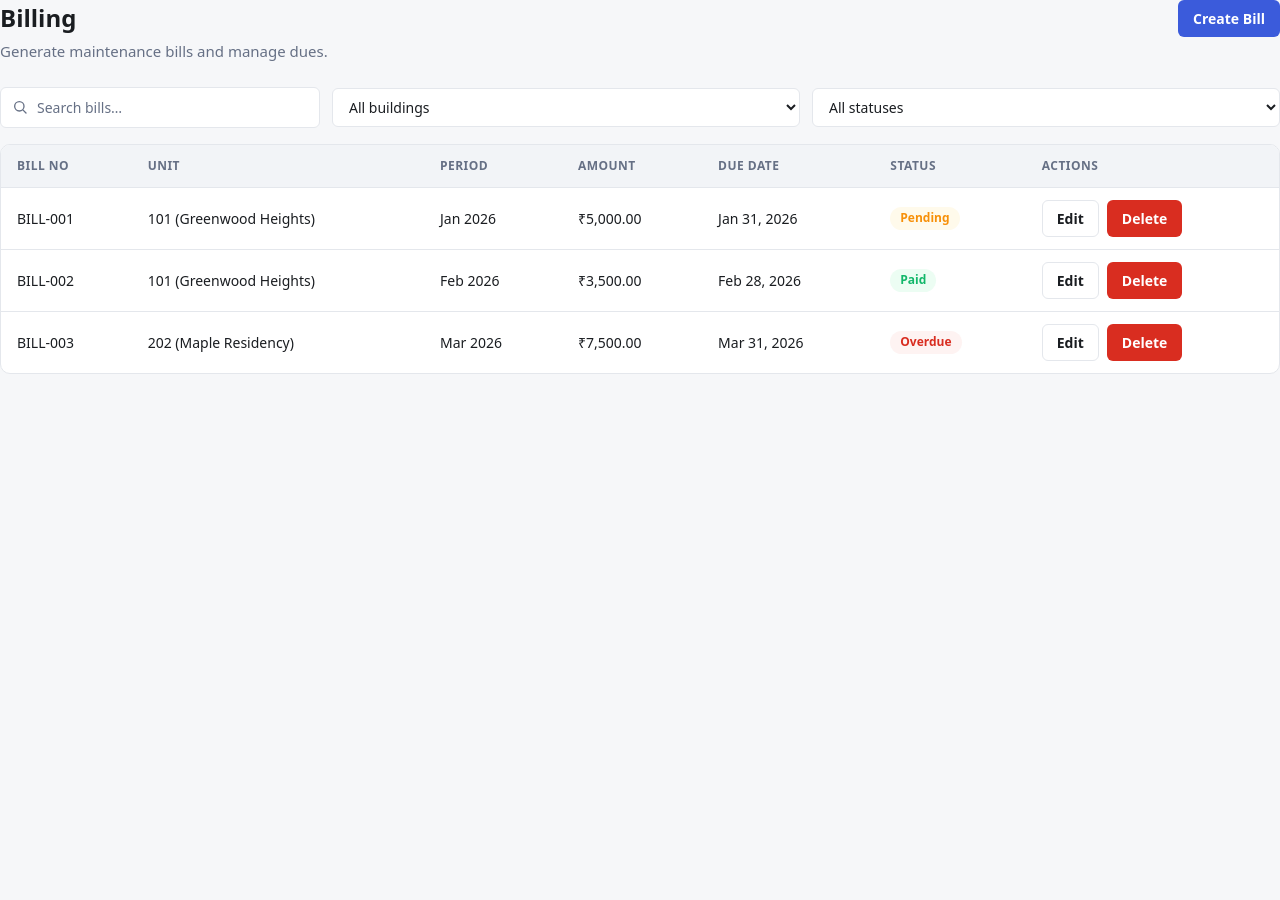
Test case: BillingPage CRUD functionality › validates amount must be greater than 0
Expected: the text "BILL-001" is shown, left=1, top=187, right=132, bottom=249
Click the button "Create Bill" at (1229, 18), box left=1178, top=0, right=1279, bottom=37
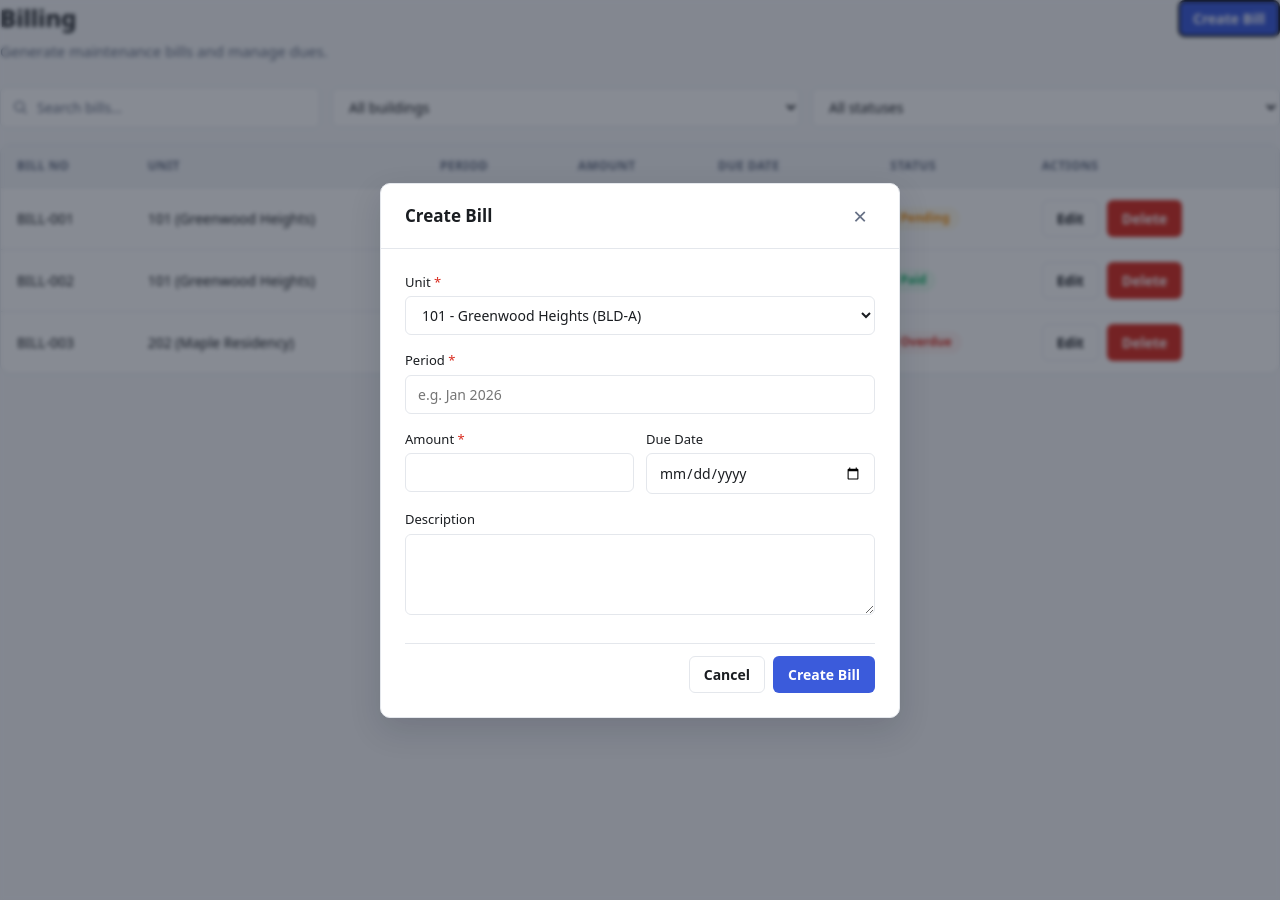
Select "101 - Greenwood Heights (BLD-A)" in the dropdown labelled "Unit *" at (640, 316), box left=405, top=296, right=875, bottom=335
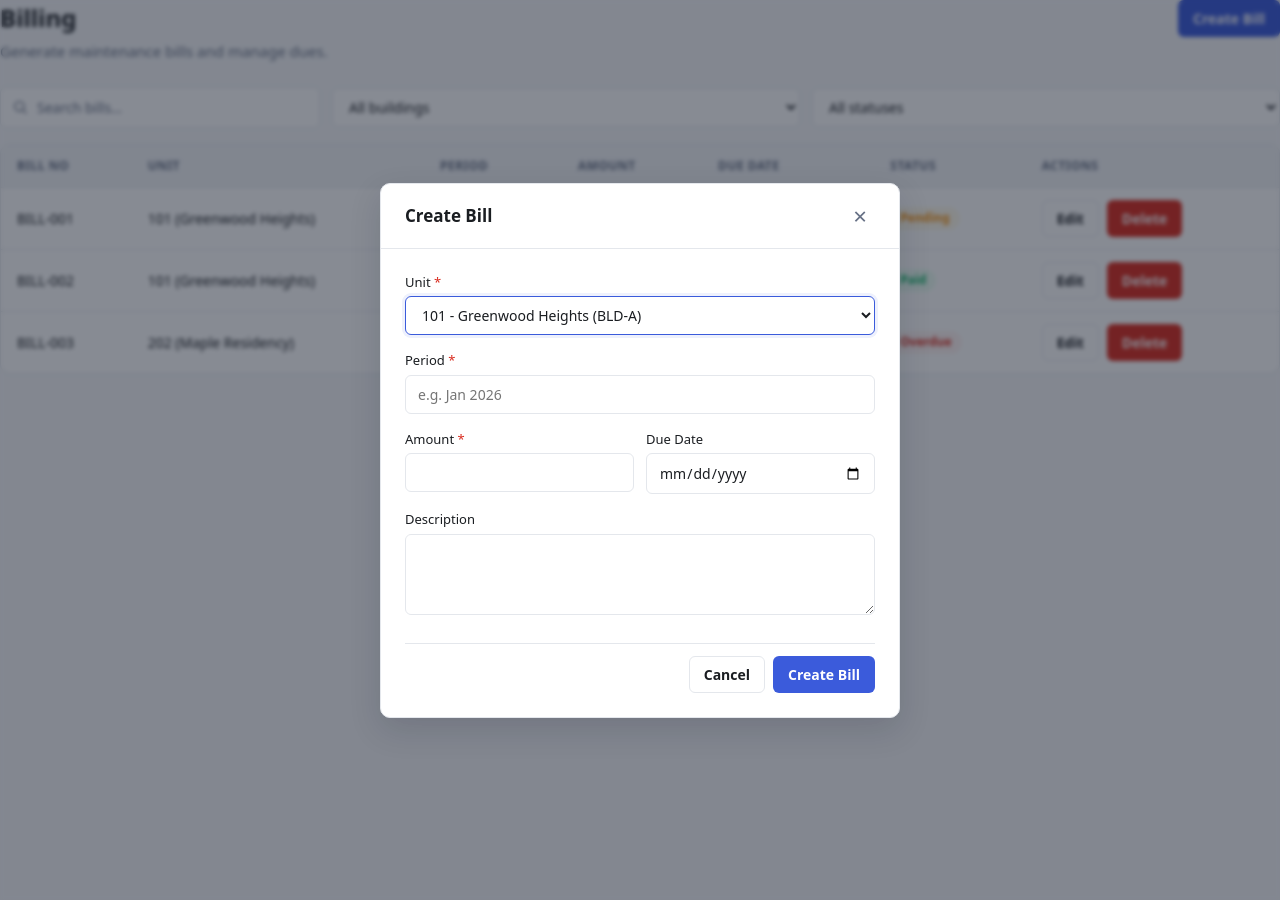
Type "Jan 2026" into the field labelled "Period *" at (640, 394), box left=405, top=374, right=875, bottom=414
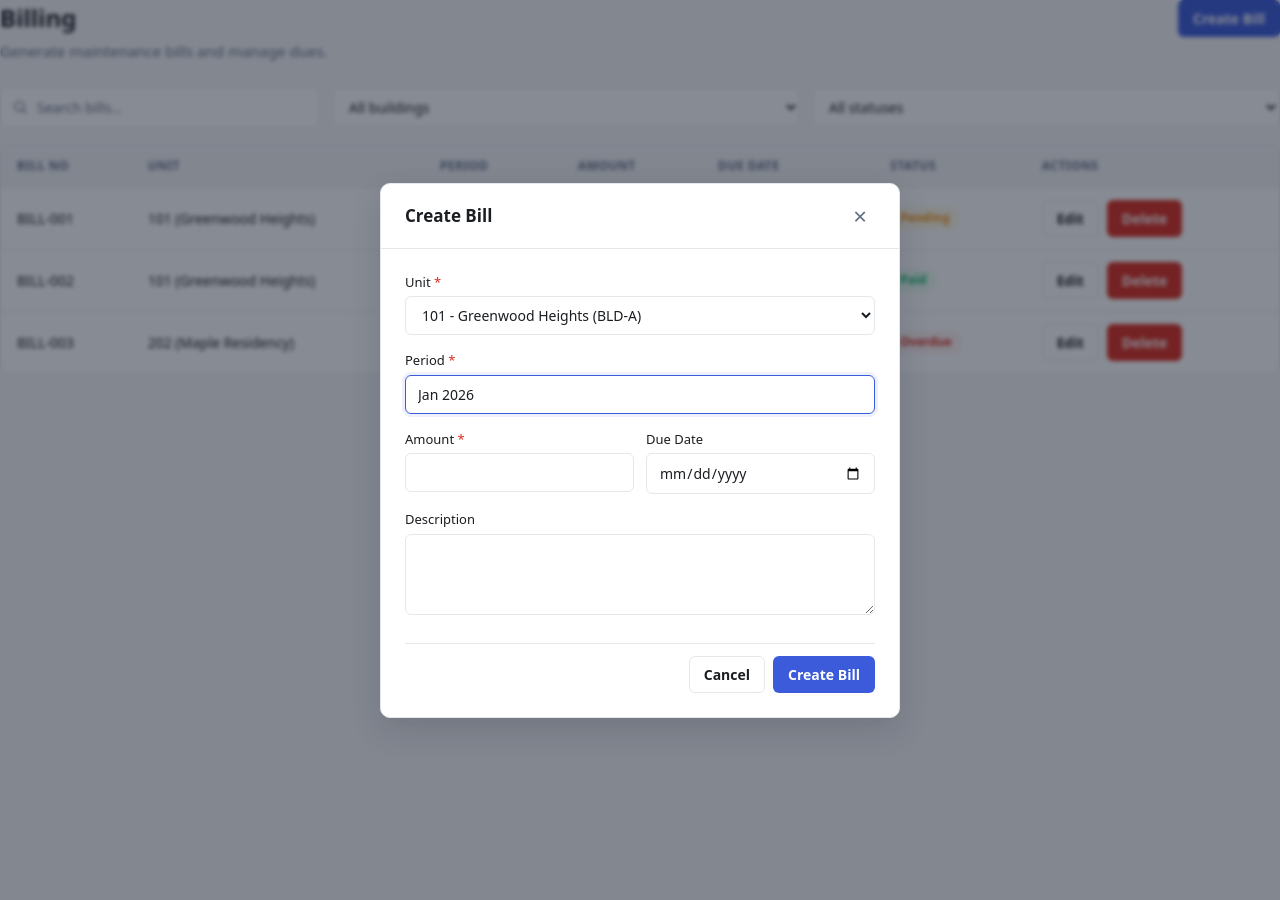
Type "0" into the number field labelled "Amount *" at (520, 472), box left=405, top=453, right=634, bottom=492
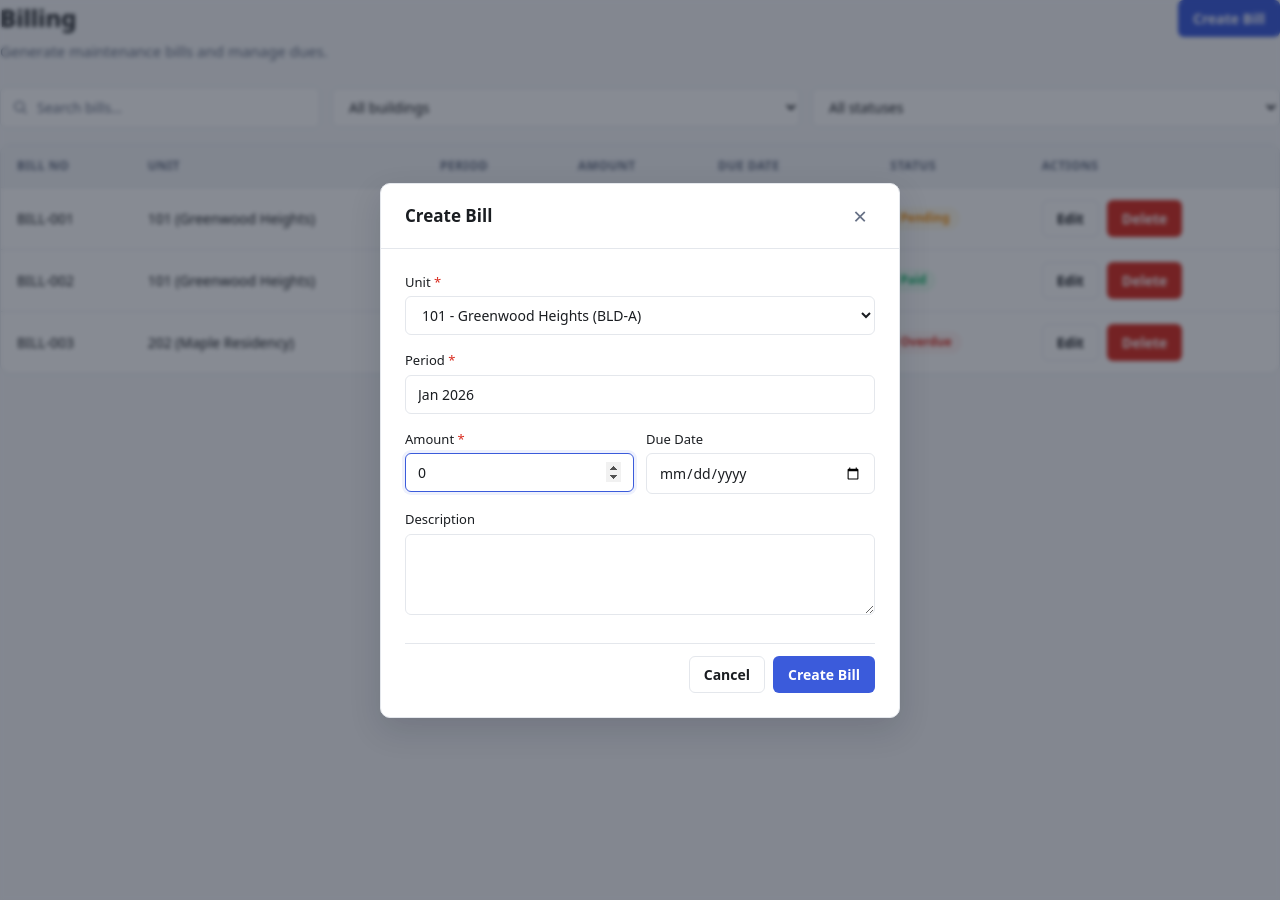
Click the button "Create Bill" at (824, 674), box left=773, top=656, right=875, bottom=692
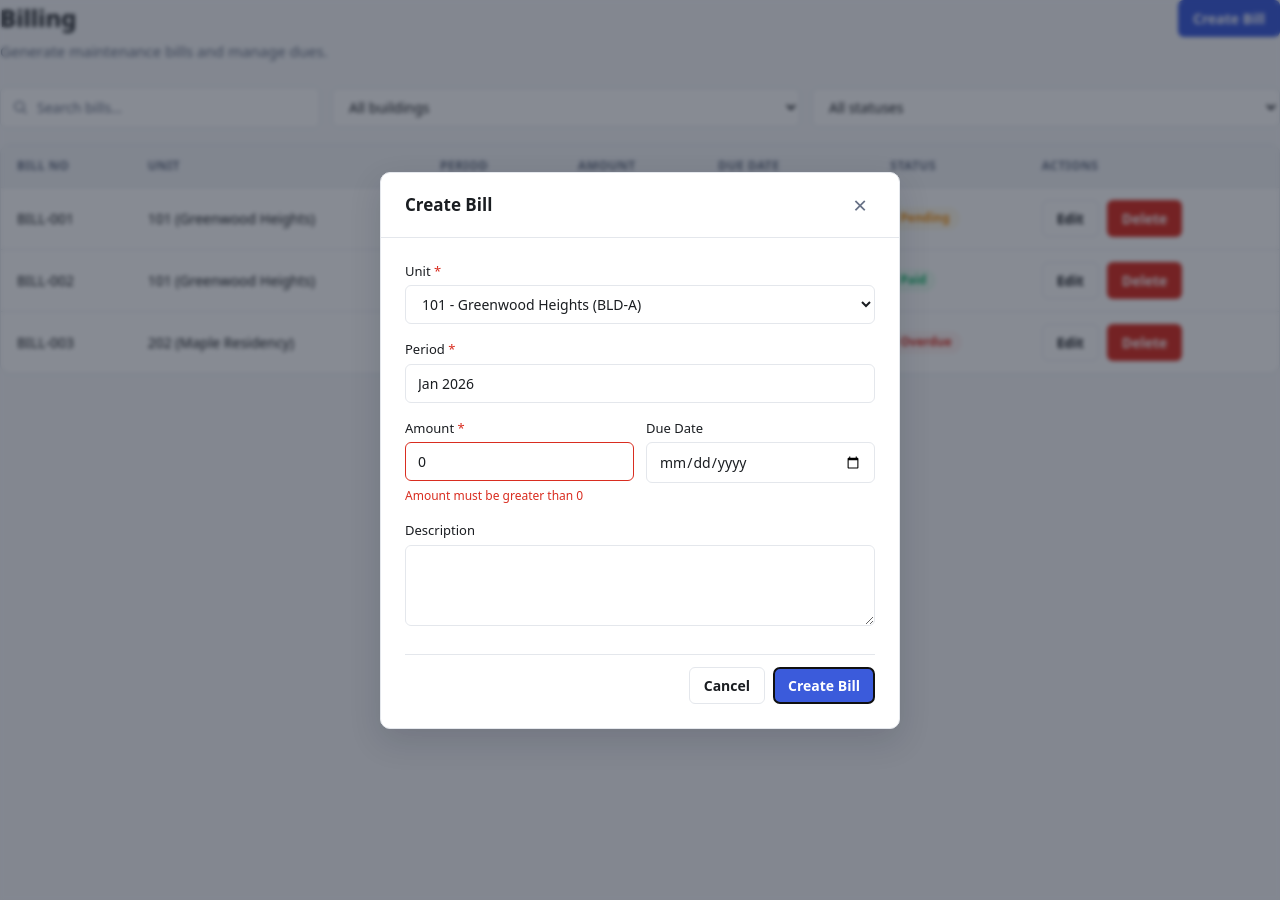
Expected: the text "Amount must be greater than 0" is shown, left=405, top=487, right=583, bottom=504
